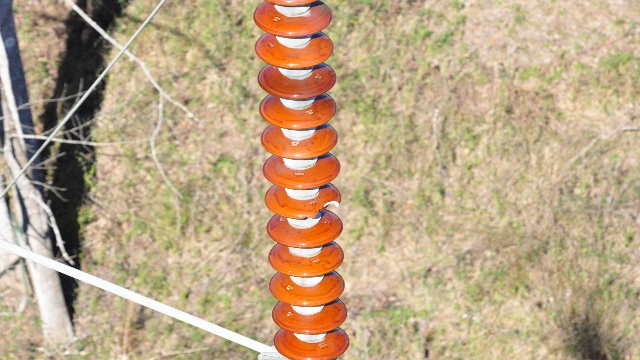broken_local: (297, 199, 344, 220)
insulator_unspecified: (251, 1, 350, 357)
